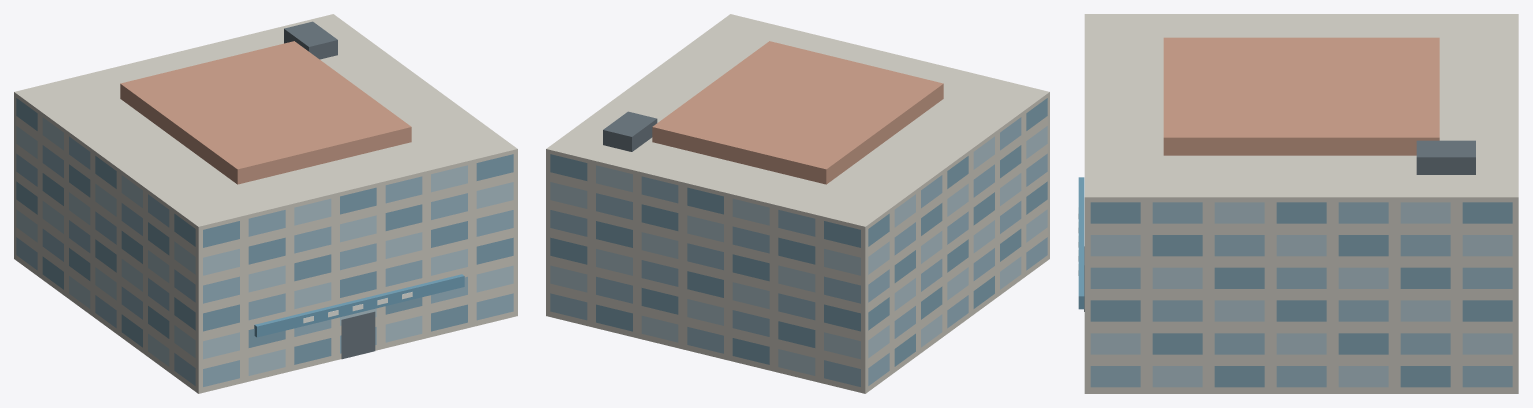
File: korea-building-7.glb
3 views of the same model, side by side, from view 1: azimuth 30°, elevation 25°; view 2: azimuth 150°, elevation 25°; view 3: azimuth 270°, elevation 25° (orthographic). The views are drawn at different scales.
Size of the model in its own units: 11.02 by 6 by 11.18.
